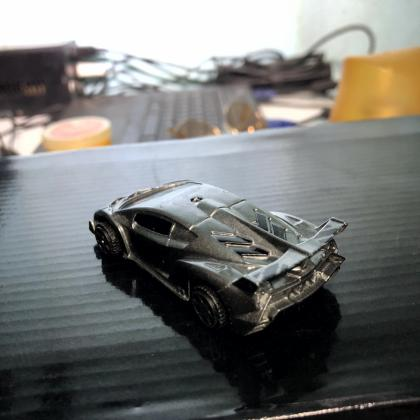Car: (80, 172, 352, 344)
